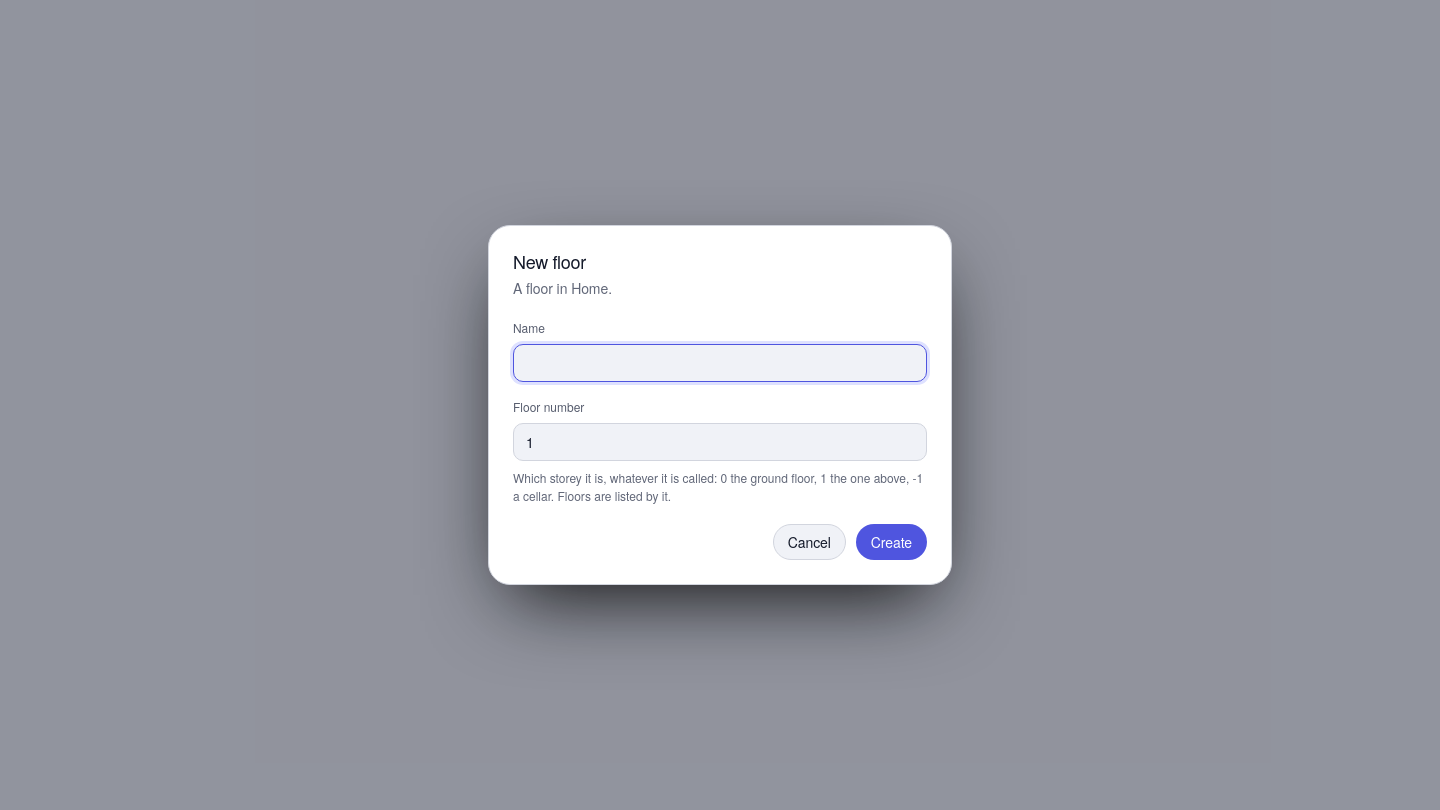
AreaDialog › refuses a floor number another floor has, naming it, before asking the server
This screenshot has width=1440, height=810.
Type "Mezzanine" into the field labelled "Name" at (720, 363), box [513, 344, 927, 382]
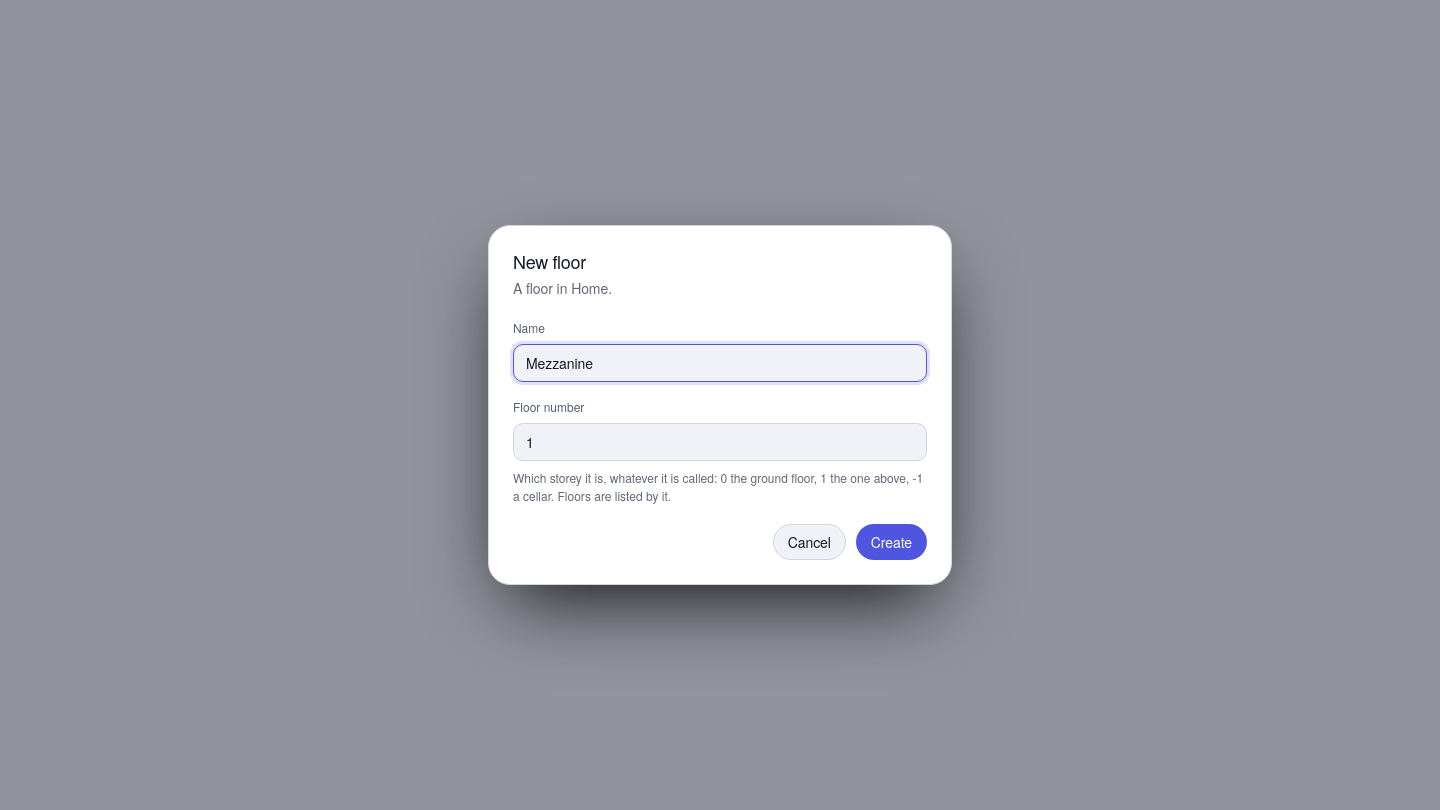
Replace the text in the number field labelled "Floor number" with "0" at (720, 442), box [513, 423, 927, 461]
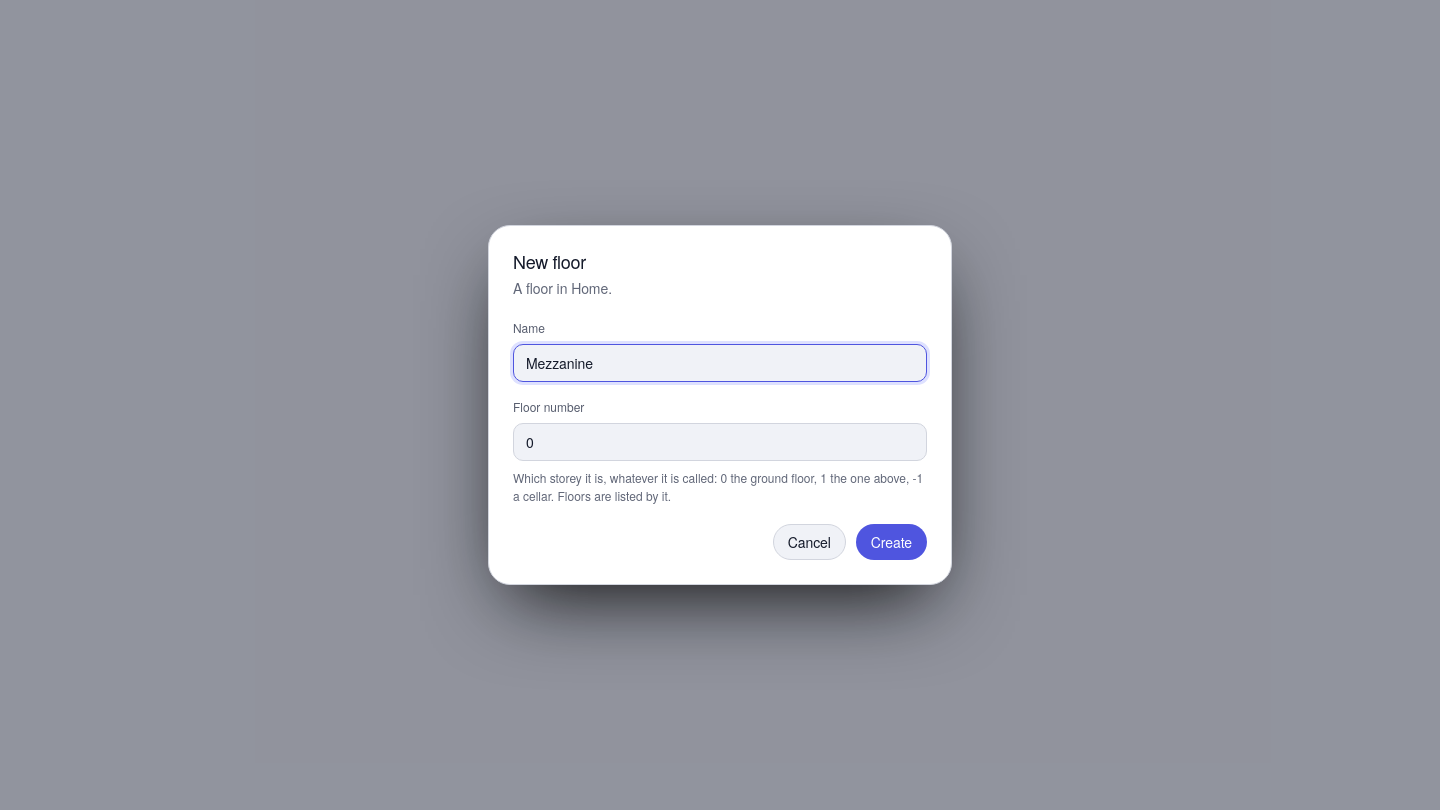
Click the button "Create" at (891, 542), box [856, 524, 927, 560]
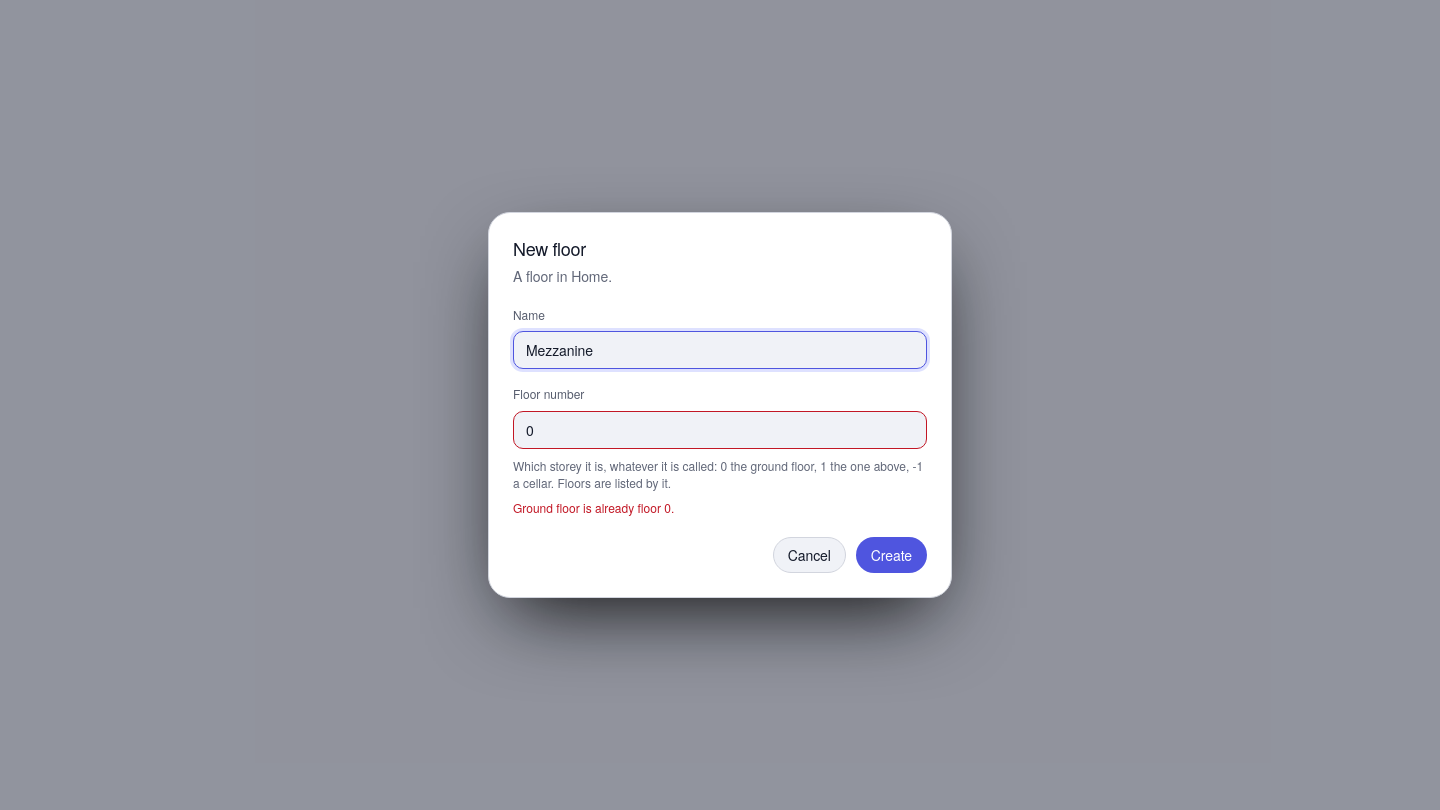
Check: the text "Ground floor is already floor 0." is shown, box [513, 500, 674, 516]
